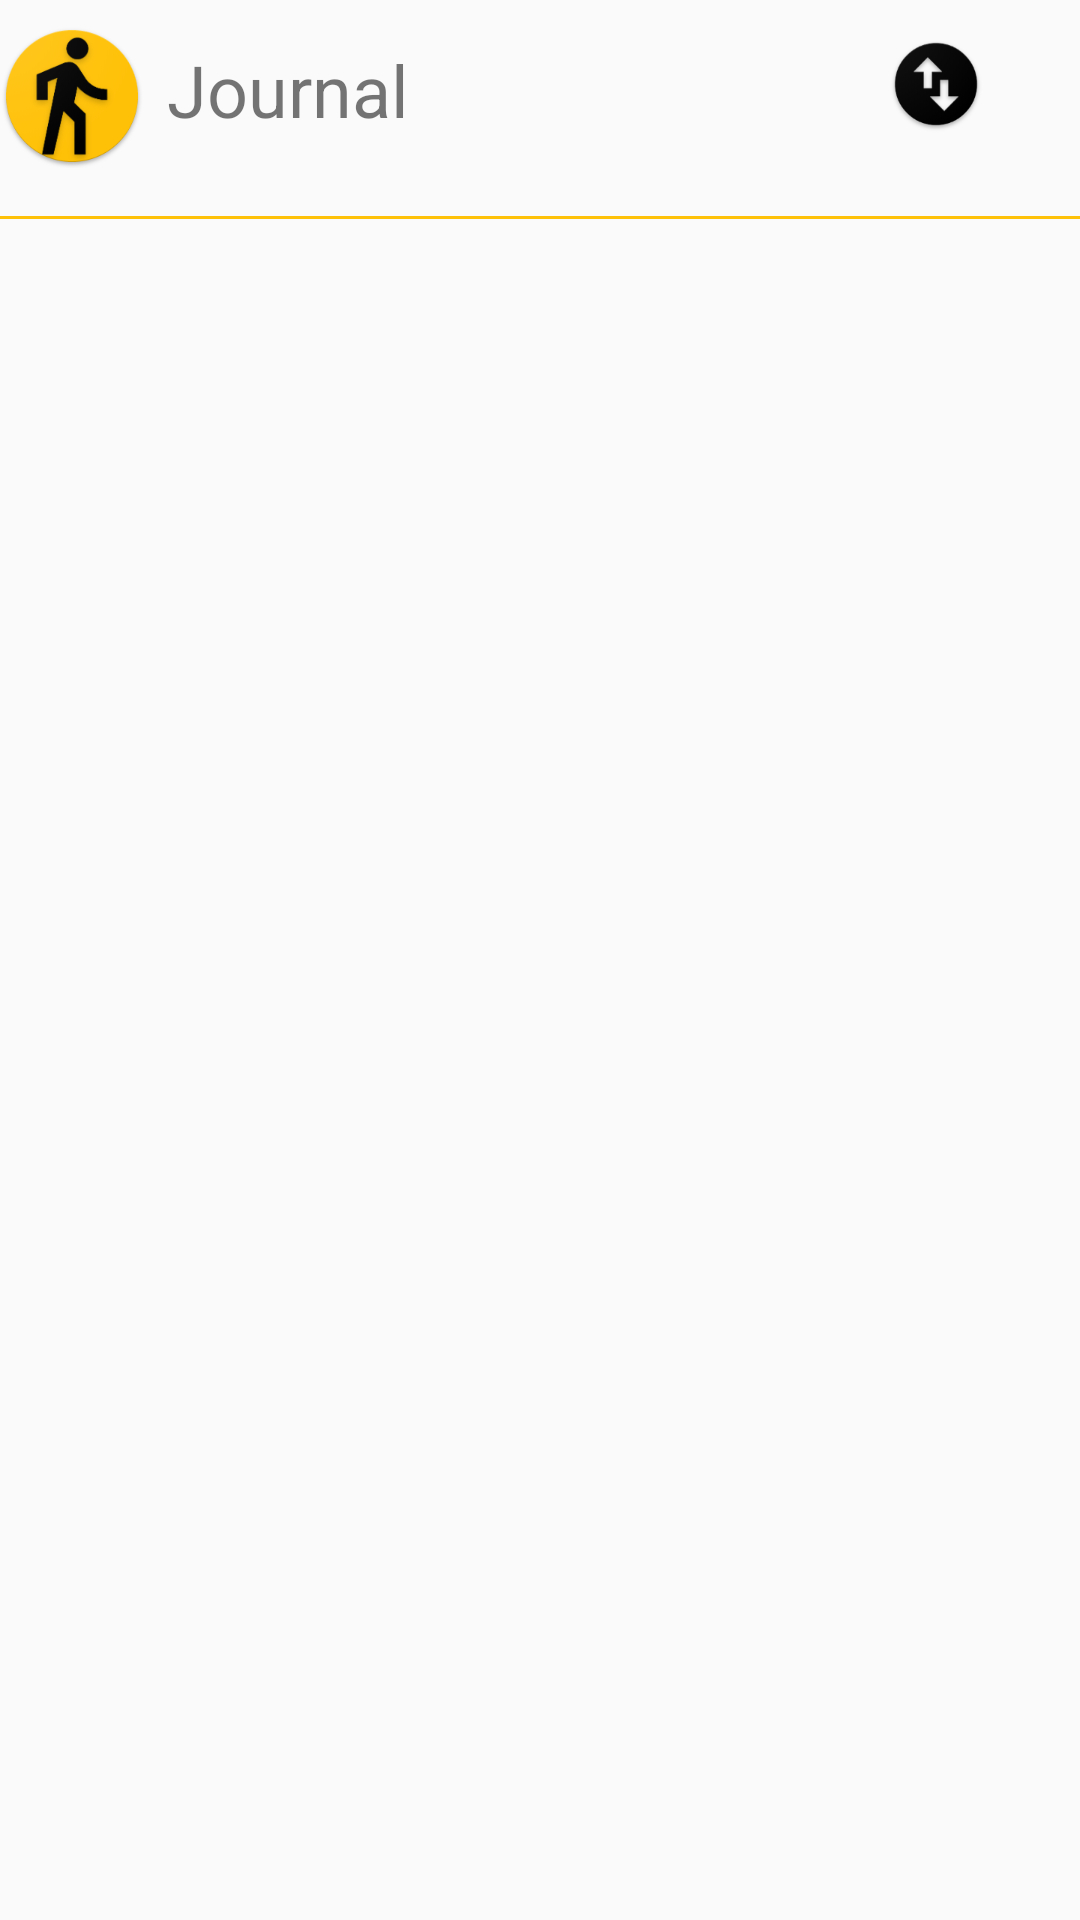

Where icons sit on this 1080 x 1920 app screen, as (x1, y1, x2, y2):
arrange: (894, 42, 978, 128)
